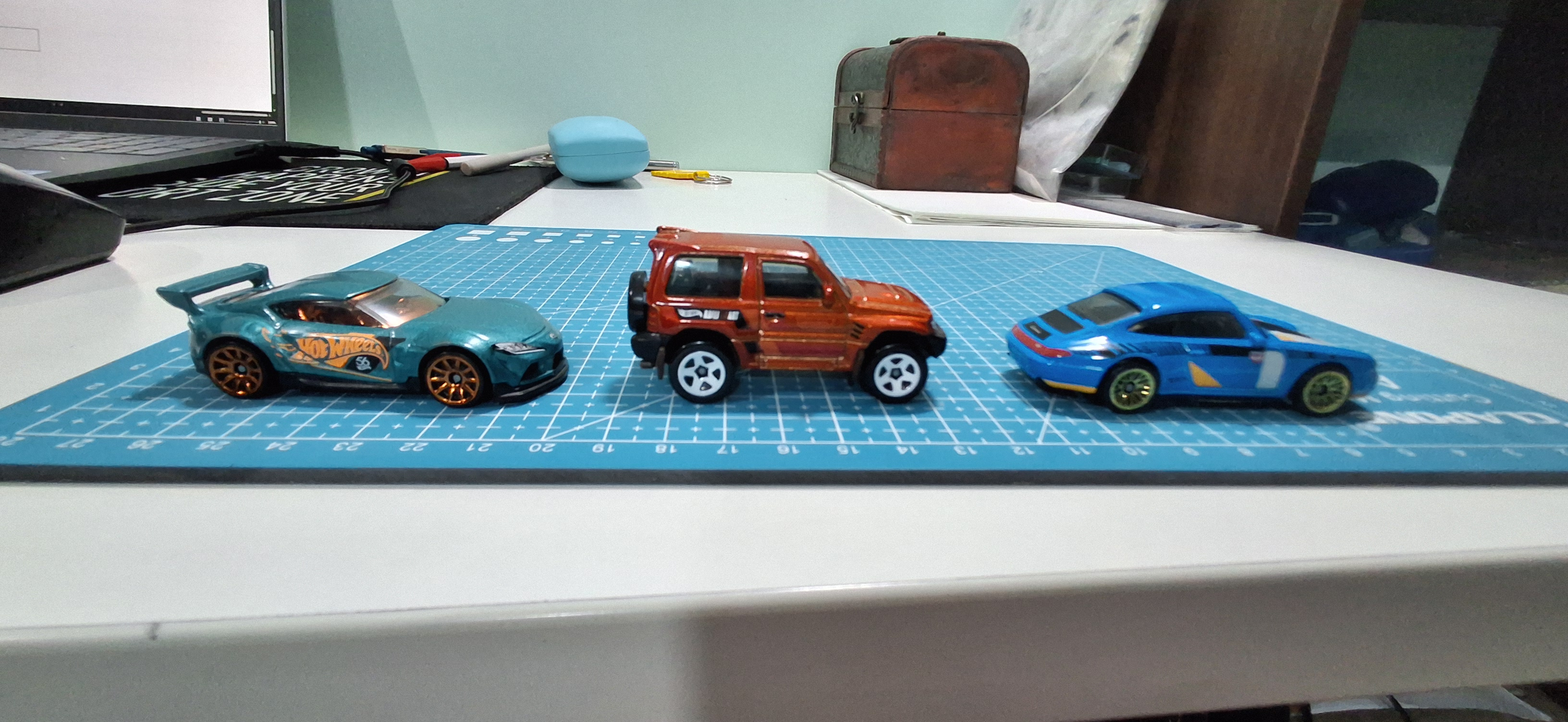Mitsubishi_Pajero_Evolution: (600, 201, 965, 416)
Porsche_Carrera: (991, 238, 1396, 433)
Toyota_GR_Supra: (139, 226, 574, 441)
